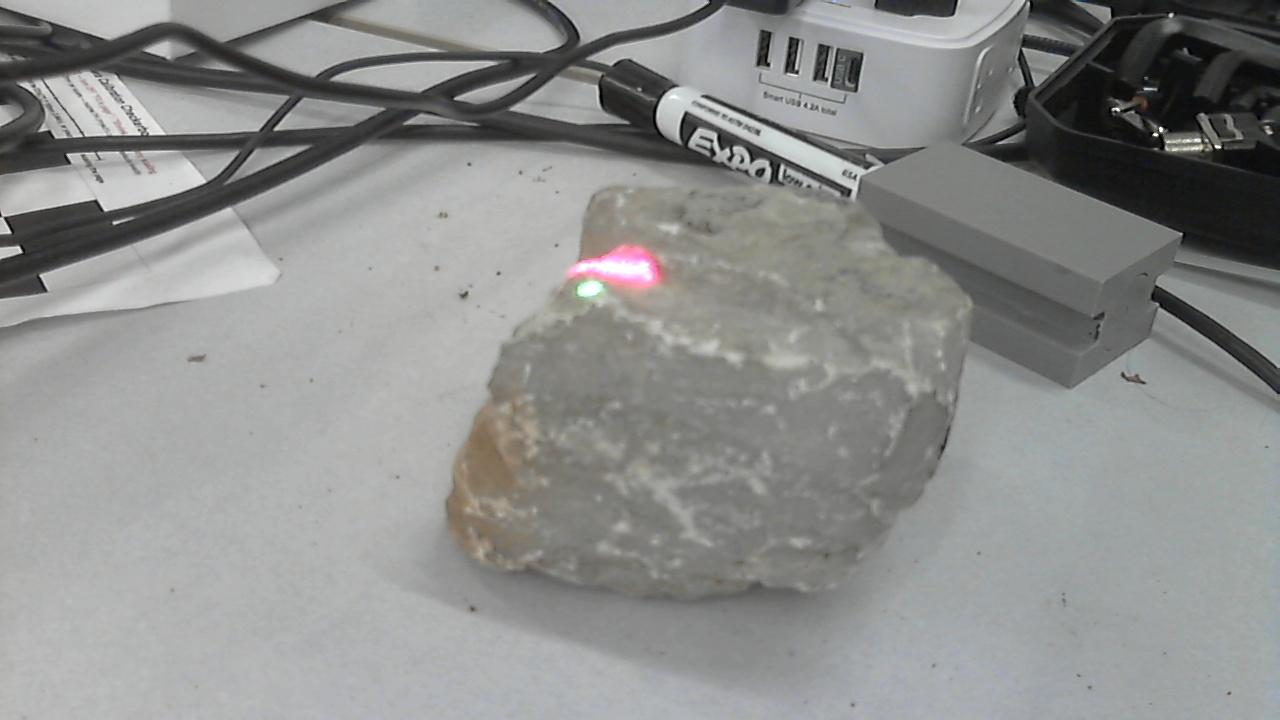Object rock - Material stone - Pdfname as35as4adsa: (569, 238, 668, 302)
